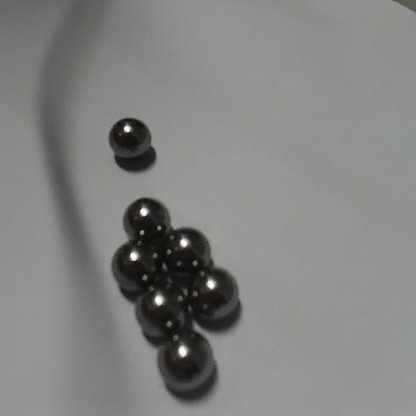ironball: (155, 331, 216, 393), (189, 263, 239, 324), (109, 238, 164, 293), (137, 283, 194, 335), (160, 225, 211, 278), (102, 112, 152, 164), (120, 195, 174, 243)
